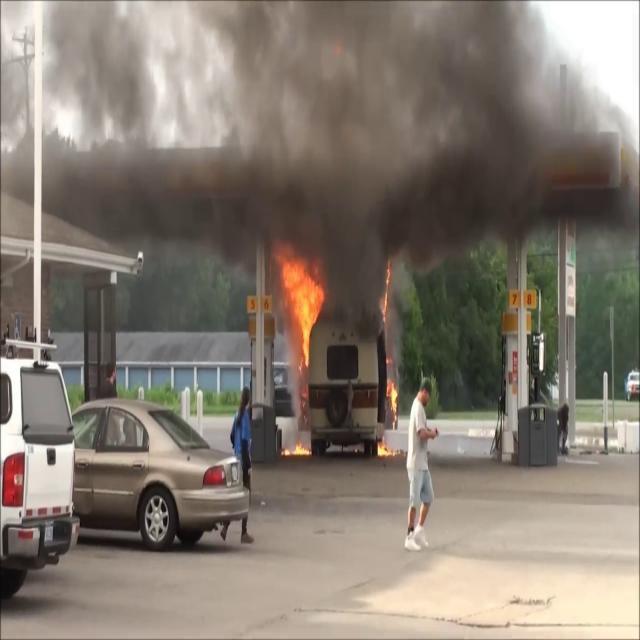Fire: (274, 250, 327, 368), (376, 373, 399, 460), (284, 431, 312, 461)
Smoke: (27, 1, 634, 297)
